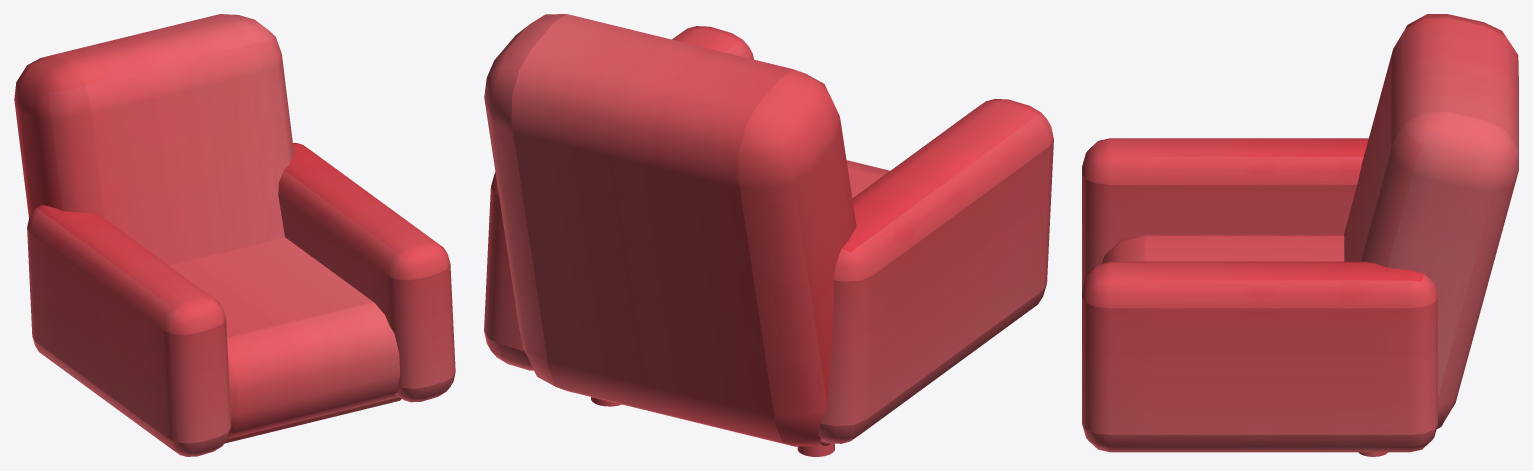
File: couchSessel_textured.fbx
The picture shows the model from 3 angles, left to right: view 1: azimuth 30°, elevation 25°; view 2: azimuth 150°, elevation 25°; view 3: azimuth 270°, elevation 25°; orthographic projection. The views are drawn at different scales.
Parts seen in each view (by area): view 1: pasted__pCube11, pasted__pCube9, pasted__pCube8, pasted__pCube10, pasted__pCube12; view 2: pasted__pCube11, pasted__pCube9, pasted__pCube10, pasted__pCube8; view 3: pasted__pCube10, pasted__pCube11, pasted__pCube9, pasted__pCube8.
Boxes of the visible parts, x1,y1,x2,y2 form: pasted__pCube11: [14, 14, 294, 265]; pasted__pCube9: [27, 204, 231, 456]; pasted__pCube8: [169, 237, 400, 437]; pasted__pCube10: [278, 142, 455, 402]; pasted__pCube12: [225, 396, 401, 443]; pasted__pCube11: [484, 14, 856, 446]; pasted__pCube9: [818, 99, 1053, 443]; pasted__pCube10: [484, 26, 753, 370]; pasted__pCube8: [846, 160, 889, 198]; pasted__pCube10: [1082, 261, 1437, 452]; pasted__pCube11: [1344, 14, 1518, 428]; pasted__pCube9: [1082, 138, 1368, 289]; pasted__pCube8: [1102, 235, 1344, 263].
Bounding box in the file's own units: 1.16 × 1.17 × 1.35.
1 material, 1 textured.
